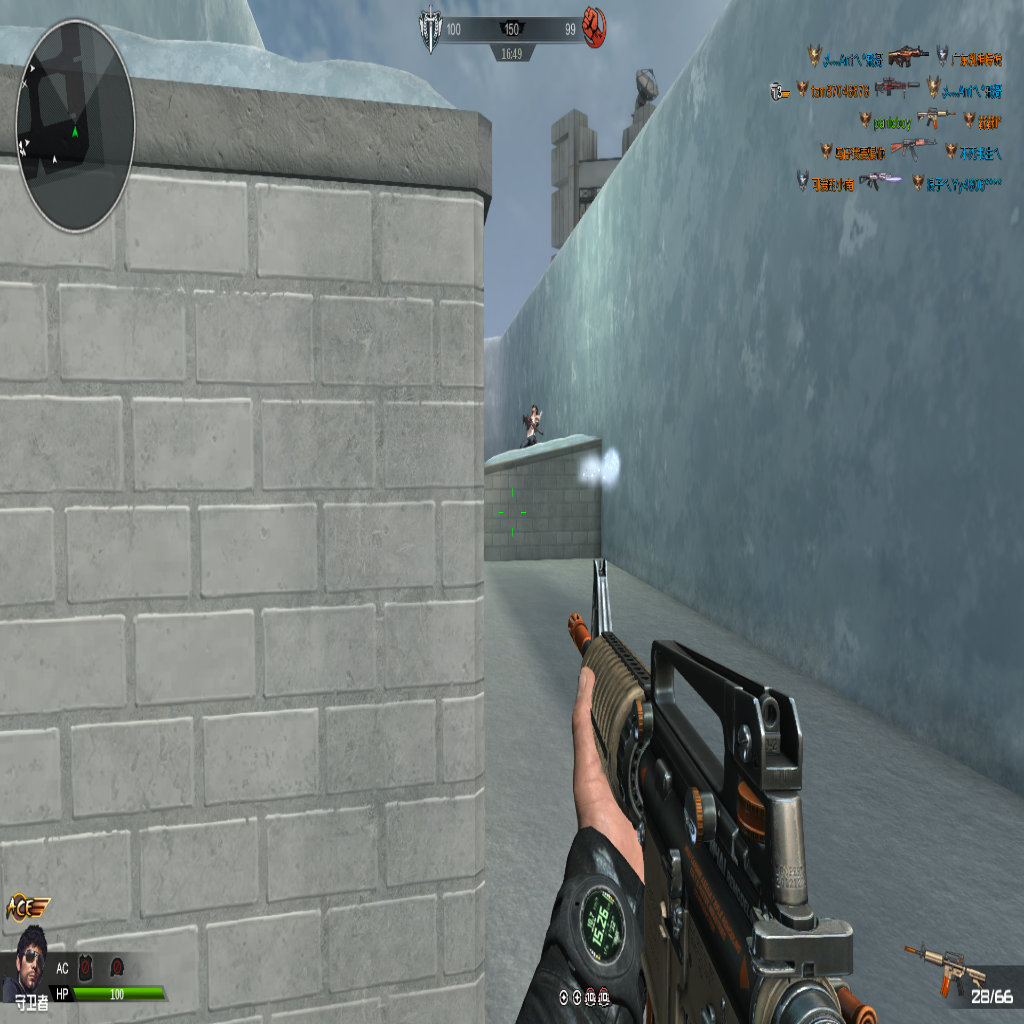tt: (521, 404, 544, 445)
